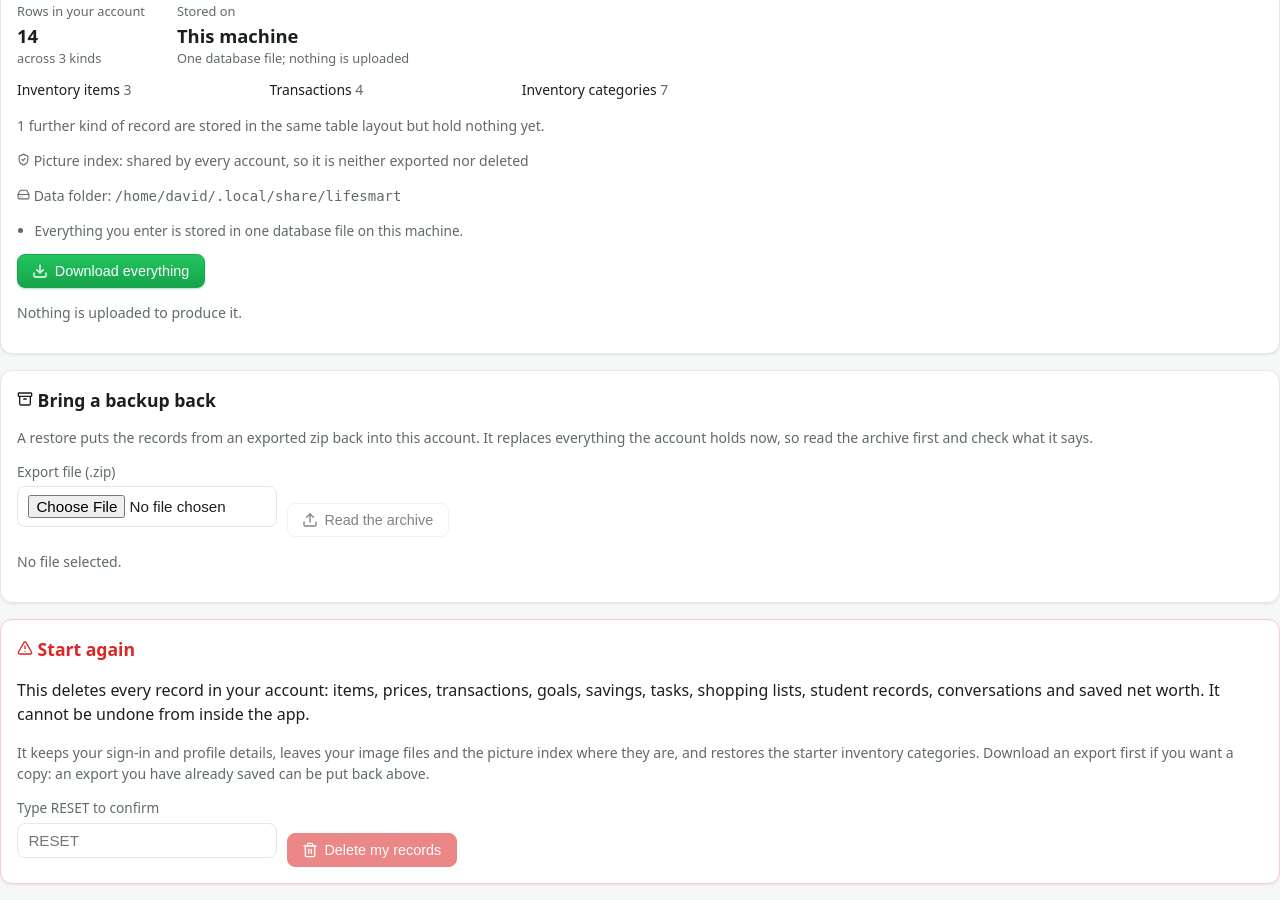
Scenario: SettingsPage › will not delete anything before the word RESET is typed
The width and height of the screenshot is (1280, 900).
(page scrolled)
Expected: the button "Delete my records" is disabled, [287,833,456,867]
Type "yes" into the field labelled "Type RESET to confirm".
click(147, 840); type("yes")  # box [17,823,277,858]
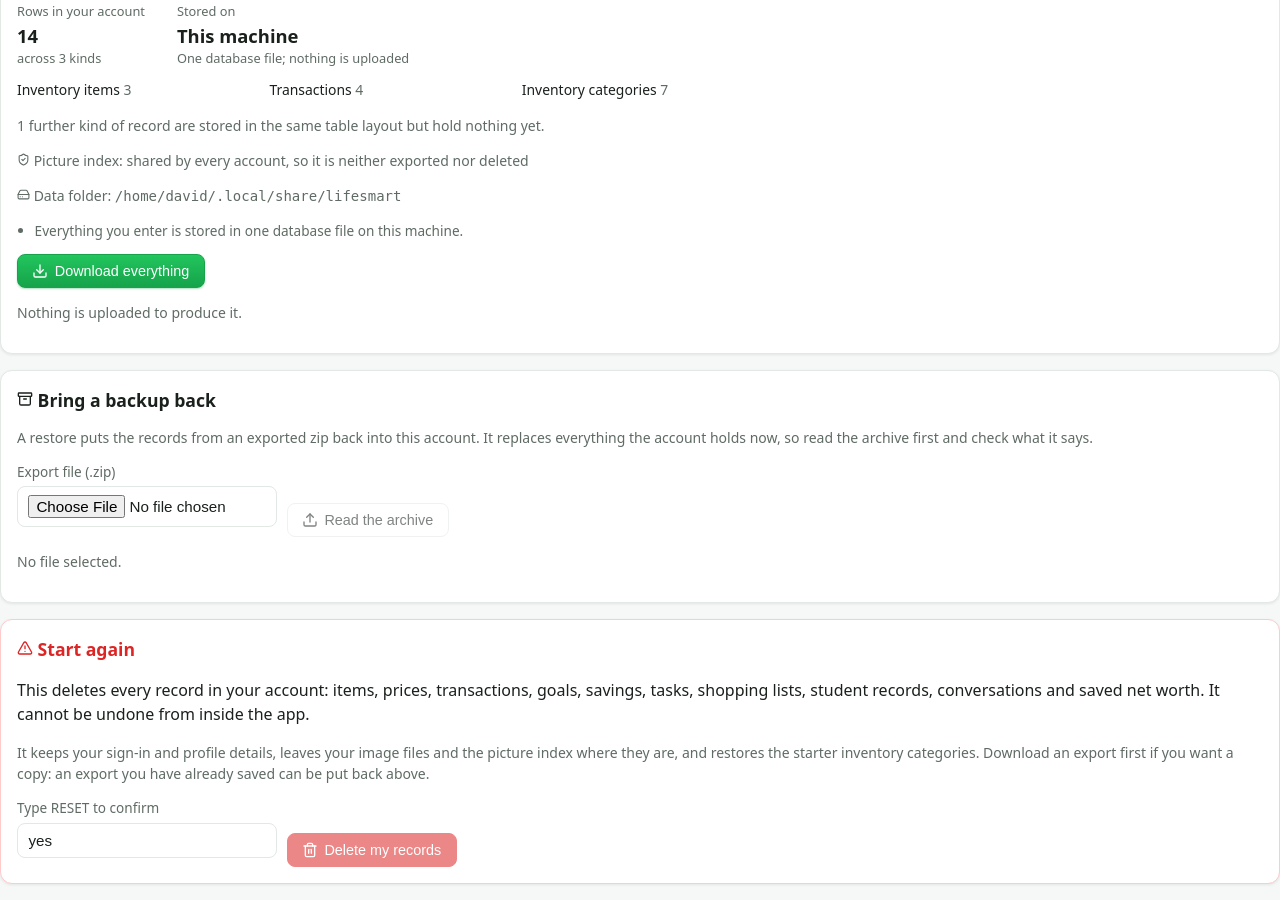
Expected: the button "Delete my records" is disabled, [287,833,456,867]
Replace the text in the field labelled "Type RESET to confirm" with "reset" at (147, 840), box [17,823,277,858]
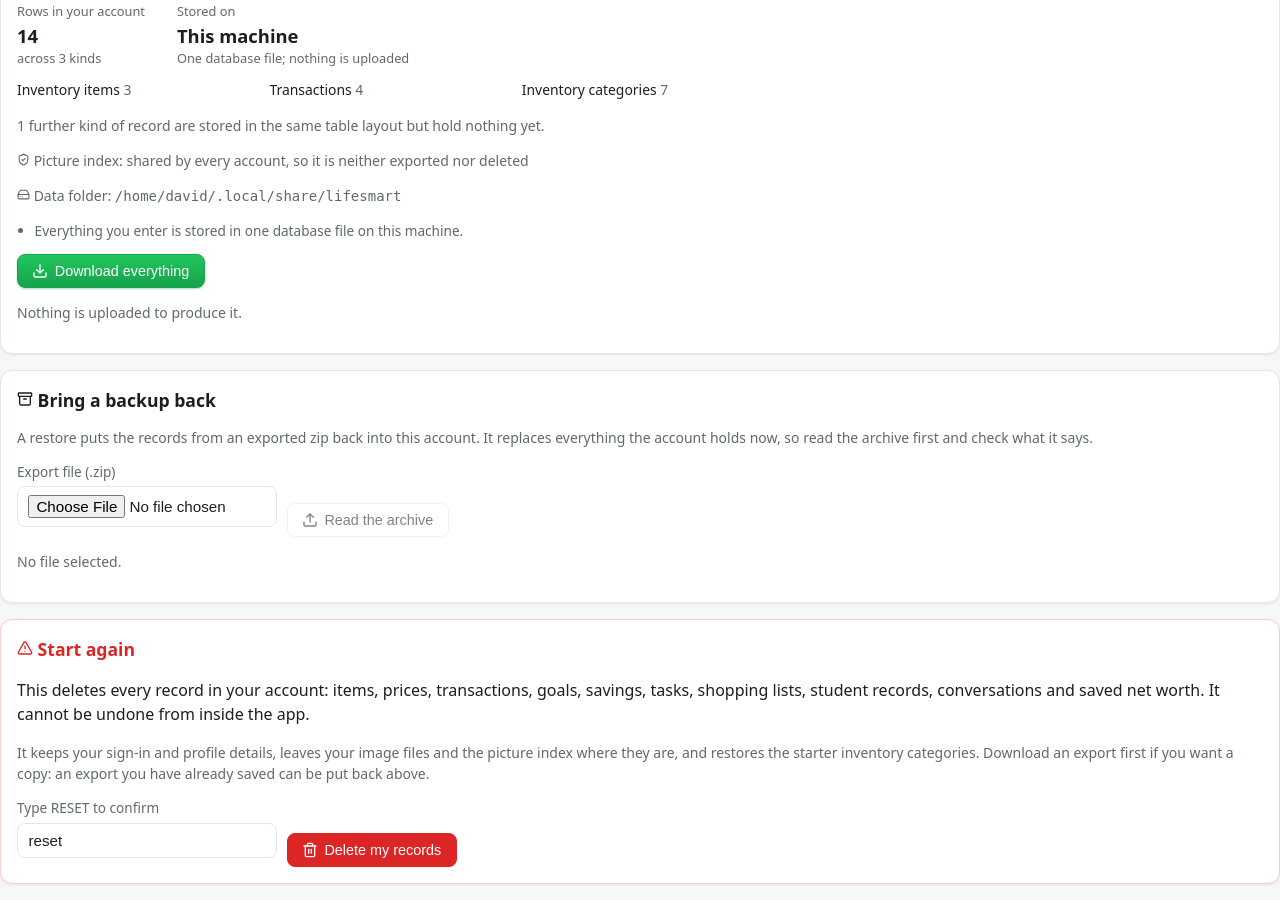
Result: the button "Delete my records" is enabled
Click the button "Delete my records".
click(372, 850)  # box [287,833,456,867]
(page scrolled)
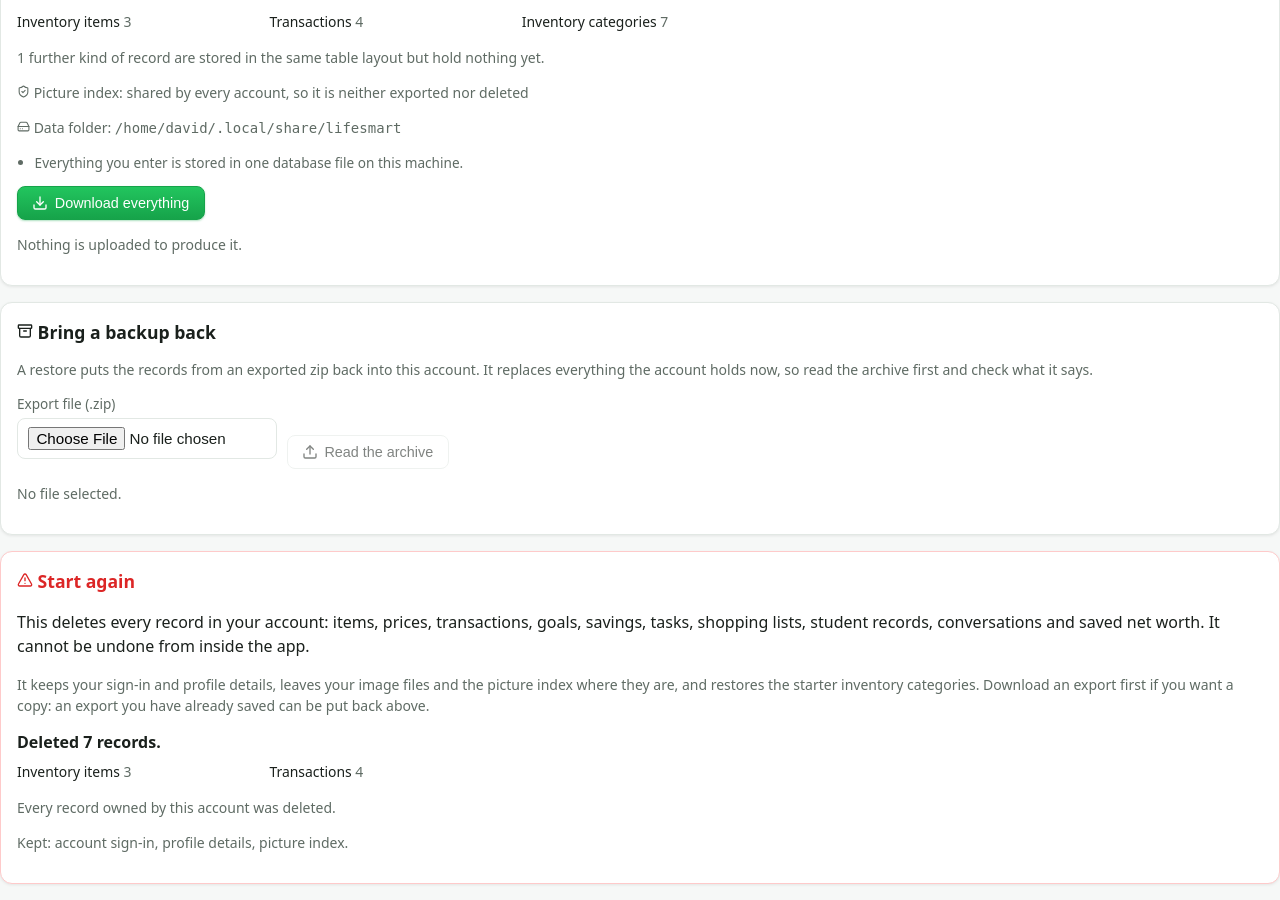
Result: the text "Deleted 7 records." is shown at [17,731,161,753]
Result: the text "Kept: account sign-in, profile details, picture index." is shown at [17,833,348,852]
